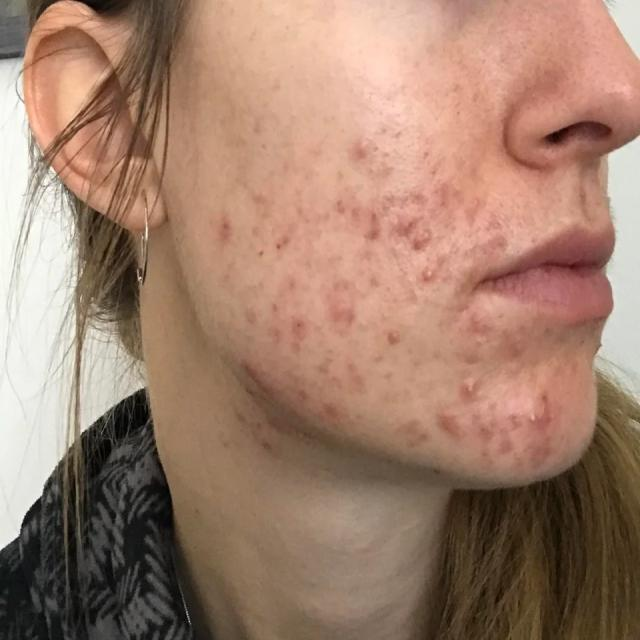Acne: (507, 408, 615, 462), (289, 361, 370, 419), (307, 197, 387, 255), (234, 298, 309, 358), (457, 197, 517, 268), (214, 205, 275, 260), (320, 293, 377, 347), (410, 272, 474, 316), (386, 200, 432, 252), (384, 326, 429, 367), (417, 408, 476, 439), (342, 133, 396, 164), (447, 371, 486, 408)
